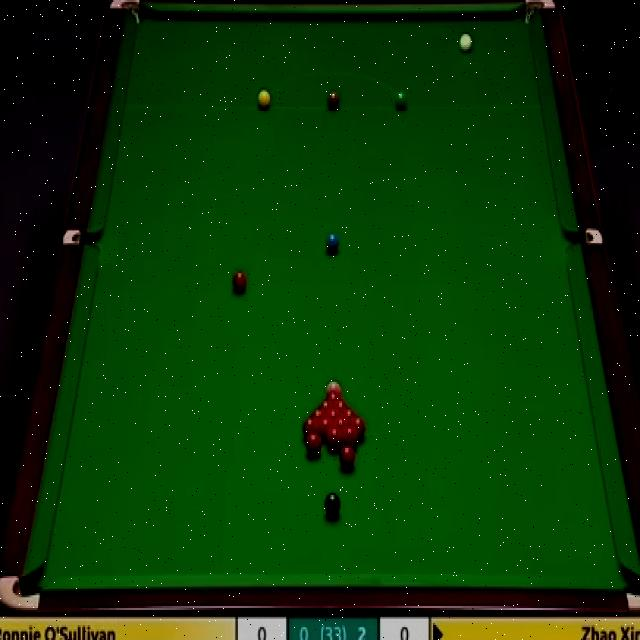black-ball: (324, 492, 340, 516)
blue-ball: (325, 230, 341, 252)
brown-ball: (326, 88, 341, 112)
green-ball: (393, 88, 408, 111)
pink-ball: (326, 381, 344, 394)
red-ball: (340, 446, 355, 470), (231, 272, 247, 294), (344, 426, 358, 451), (307, 433, 322, 456), (343, 408, 357, 432), (302, 419, 318, 438), (327, 428, 341, 449), (334, 419, 348, 440), (318, 418, 332, 438), (351, 416, 365, 436), (310, 410, 326, 418), (326, 411, 343, 418)
white-ball: (458, 32, 472, 54)
yellow-ball: (258, 90, 271, 111)
